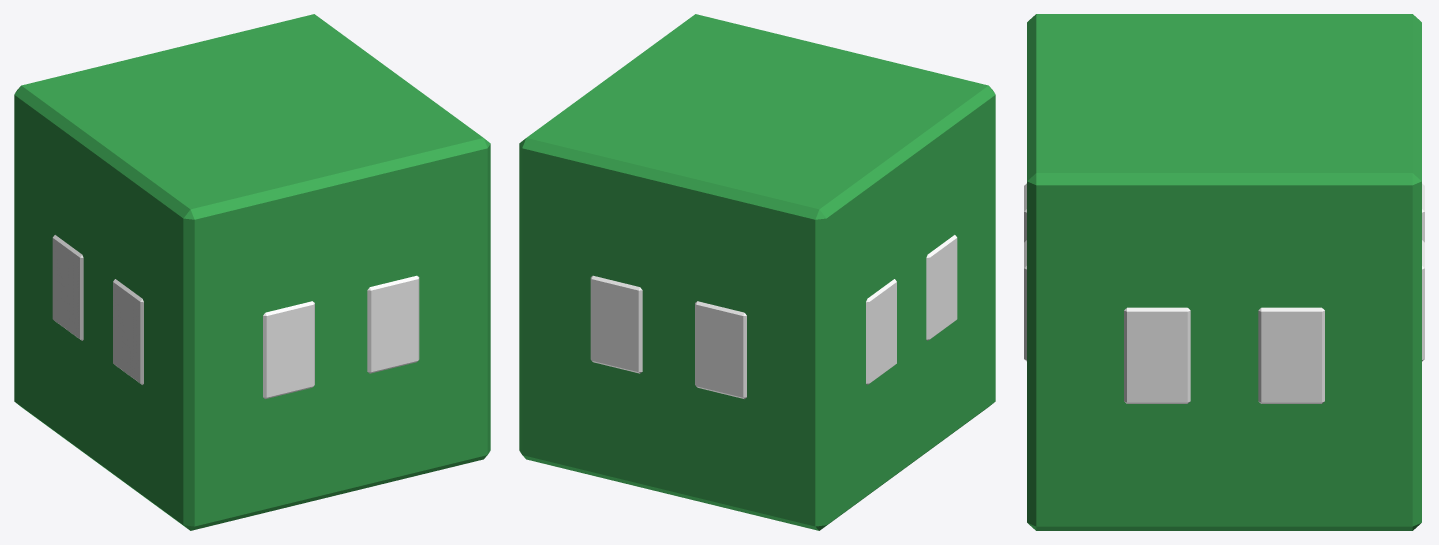
File: block_green.glb
3 views of the same model, side by side, from view 1: azimuth 30°, elevation 25°; view 2: azimuth 150°, elevation 25°; view 3: azimuth 270°, elevation 25° (orthographic). The views are drawn at different scales.
Parts seen in each view (by area): view 1: block_green; view 2: block_green; view 3: block_green.
Part boxes in pixels (x1,y1,x2,y2): block_green: [14, 14, 490, 530]; block_green: [519, 14, 995, 530]; block_green: [1024, 14, 1424, 530].
Bounding box in the file's own units: 0.264 × 0.26 × 0.264.
